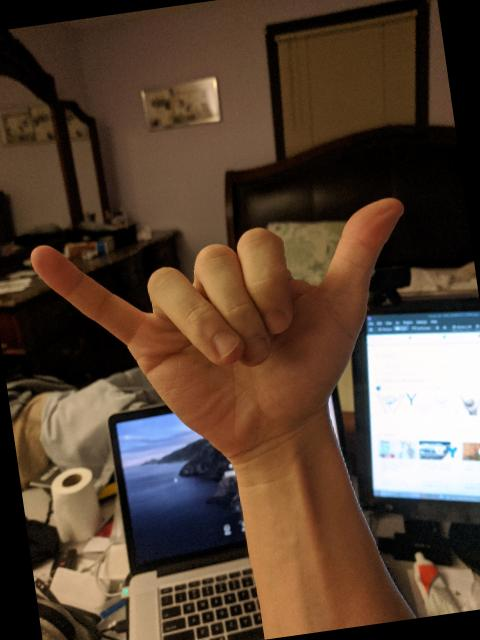Y: (24, 190, 441, 486)
